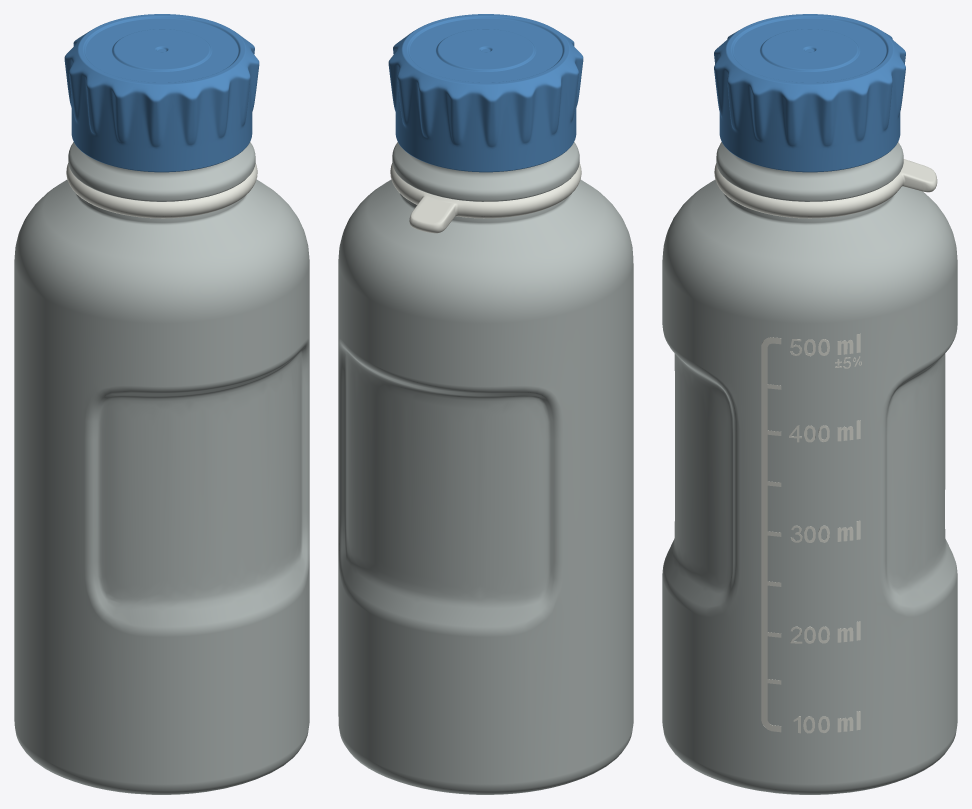
File: bottle_laboratory_a03.glb
3 renders of one model, left to right at view 1: azimuth 30°, elevation 25°; view 2: azimuth 150°, elevation 25°; view 3: azimuth 270°, elevation 25°, orthographic.
Size of the model in its own units: 0.0832 by 0.2139 by 0.0831.
